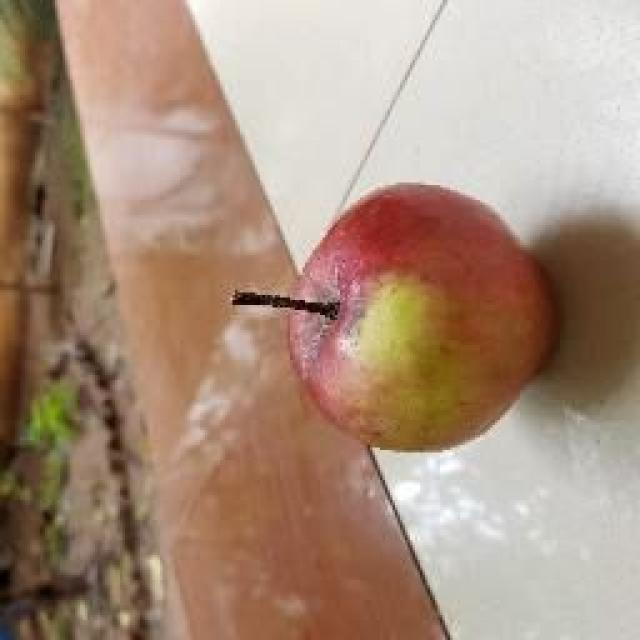Good_Apple: (232, 182, 562, 455)
